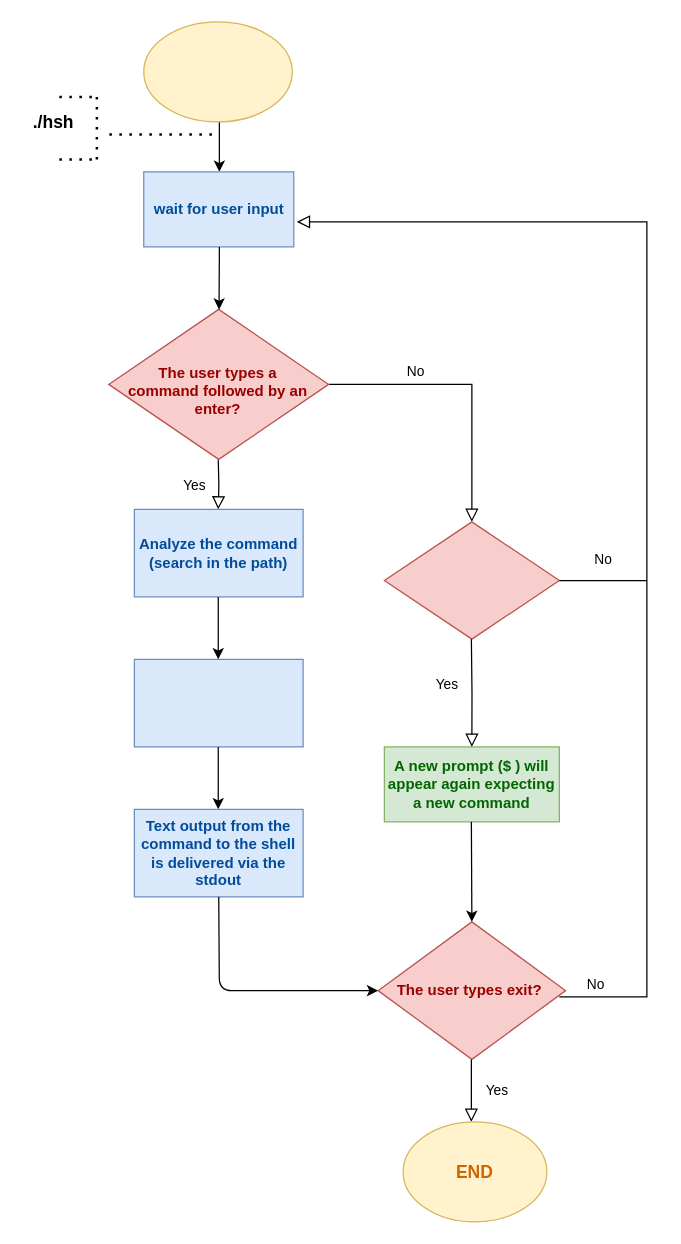
The diagram is 681 pixels wide and 1244 high, and some of its shapes have lost their labels. The centre of each missing label's shape, as x and y in pixels:
"Execute the command" belongs at (x=218, y=702).
"Start" belongs at (x=217, y=71).
"user press enter?" belongs at (x=471, y=580).
